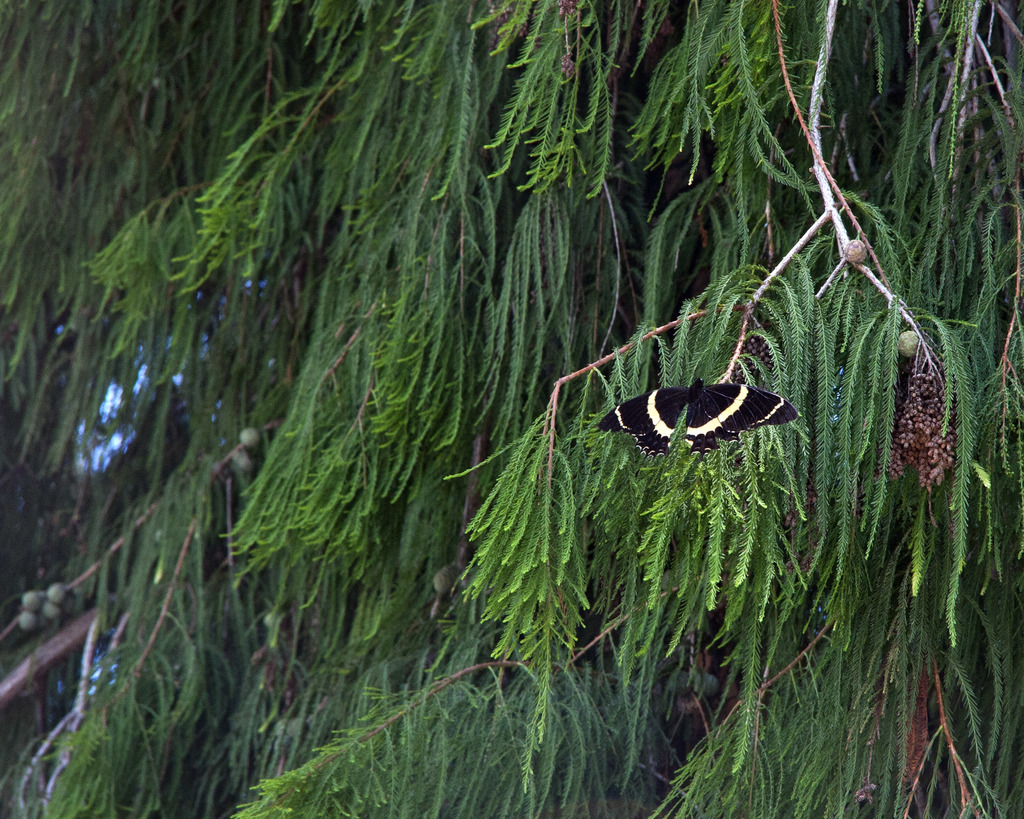Butterfly: (591, 356, 799, 478)
